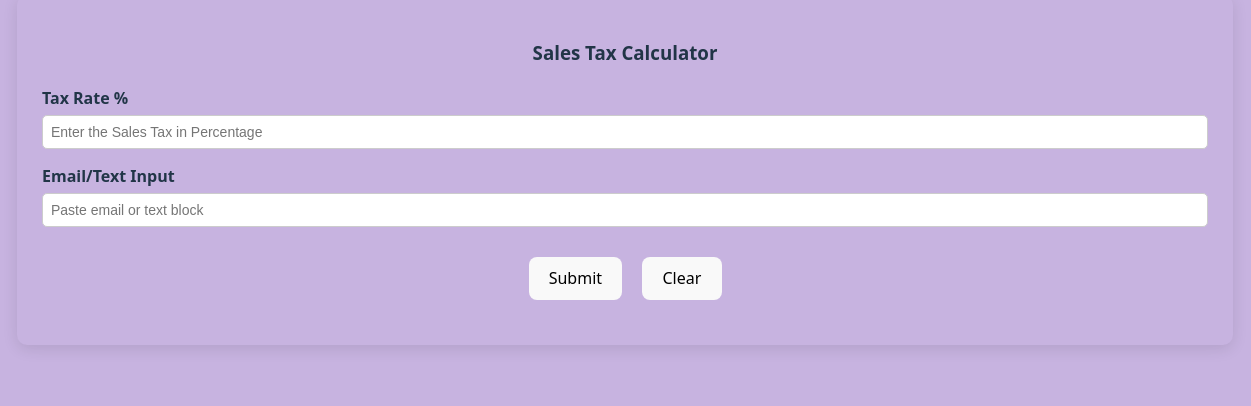
EmailText parser end to end UI test › show error when no tax rate given
Step 1. Click the button "Submit" → (576, 279), box [529,257,623,300]
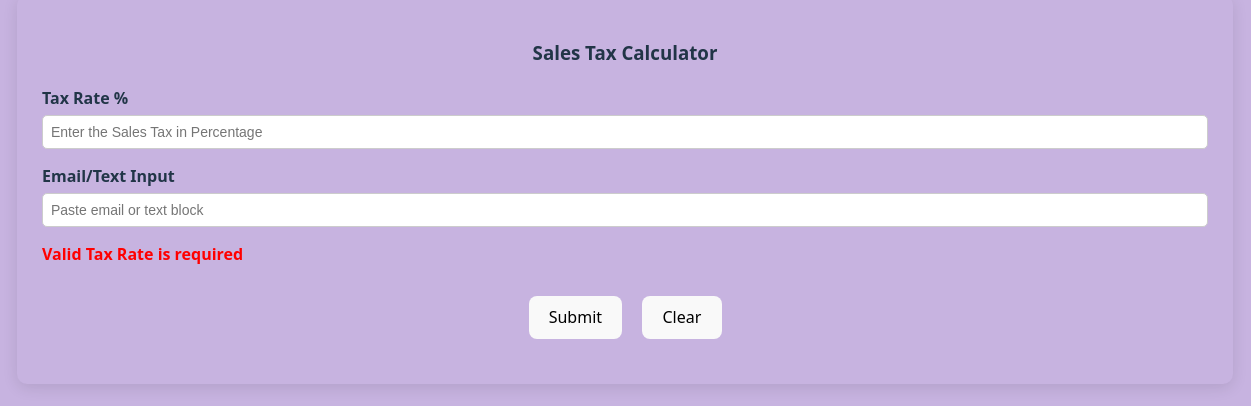
Check: the text with class "error" reads "Valid Tax Rate is required", box [42,243,243,265]
